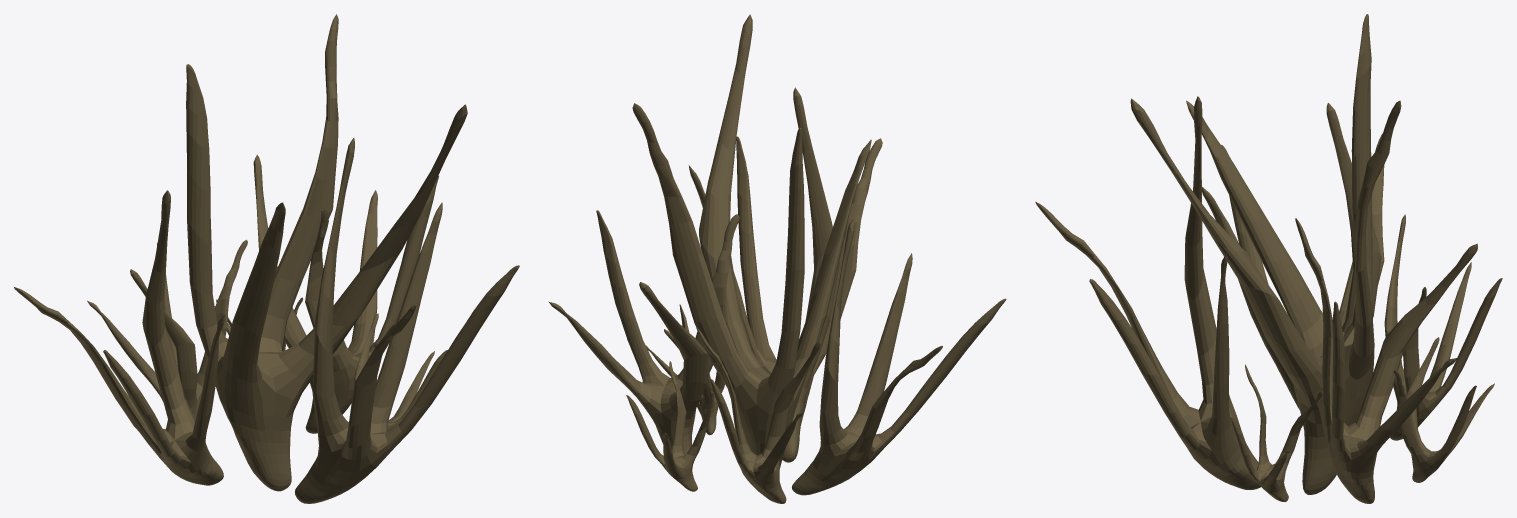
File: NakedBushStems.fbx
3 views of the same model, side by side, from view 1: azimuth 30°, elevation 25°; view 2: azimuth 150°, elevation 25°; view 3: azimuth 270°, elevation 25° (orthographic). The views are drawn at different scales.
Parts seen in each view (by area): view 1: bUSHsTEM; view 2: bUSHsTEM; view 3: bUSHsTEM.
Boxes of the visible parts, box(x1,y1,x2,y2) form: bUSHsTEM: box(14, 14, 519, 503); bUSHsTEM: box(548, 14, 1006, 503); bUSHsTEM: box(1035, 14, 1502, 503).
Bounding box in the file's own units: 121 × 122 × 116.
